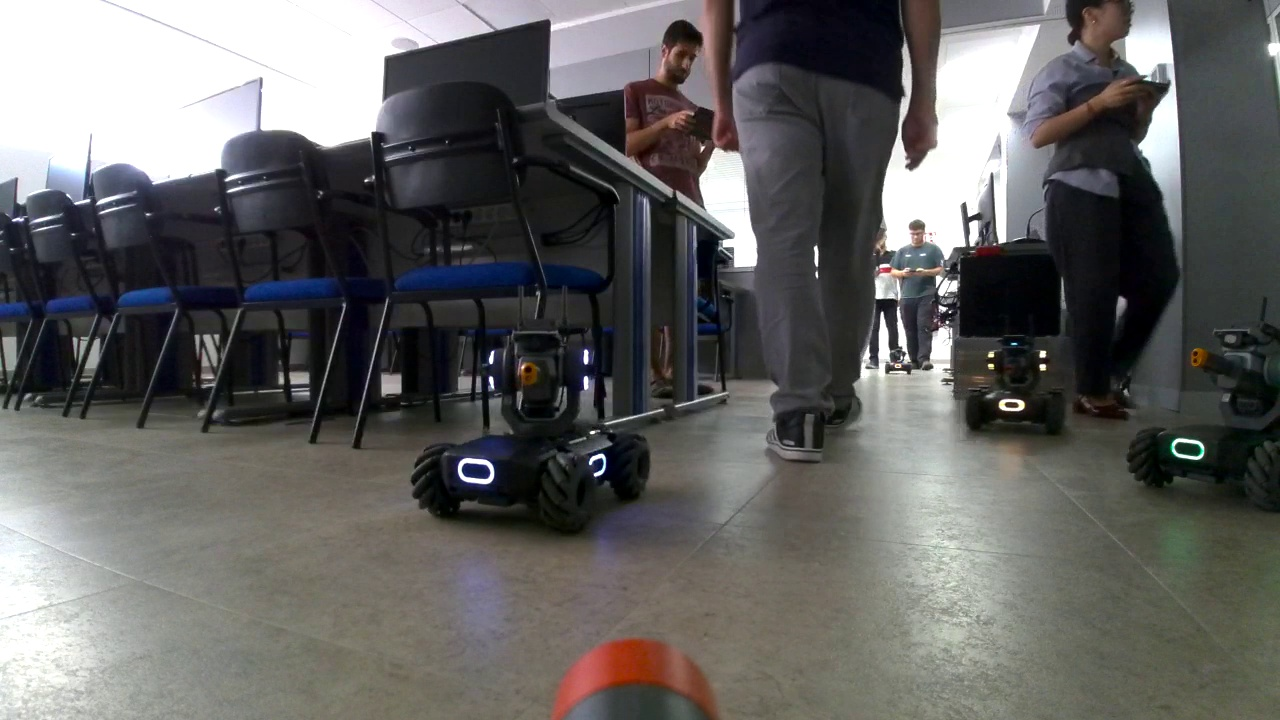robot: (409, 279, 650, 535), (1127, 296, 1280, 512), (967, 328, 1062, 432), (885, 344, 910, 373)
